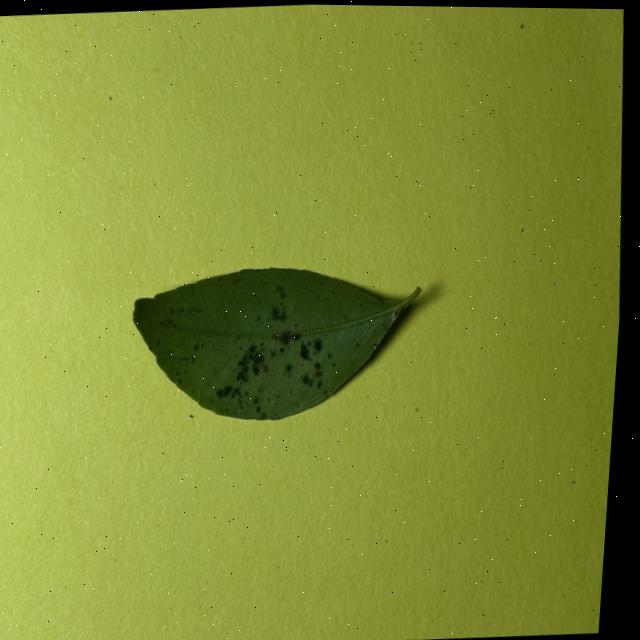sooty_mold: (132, 268, 419, 420)
